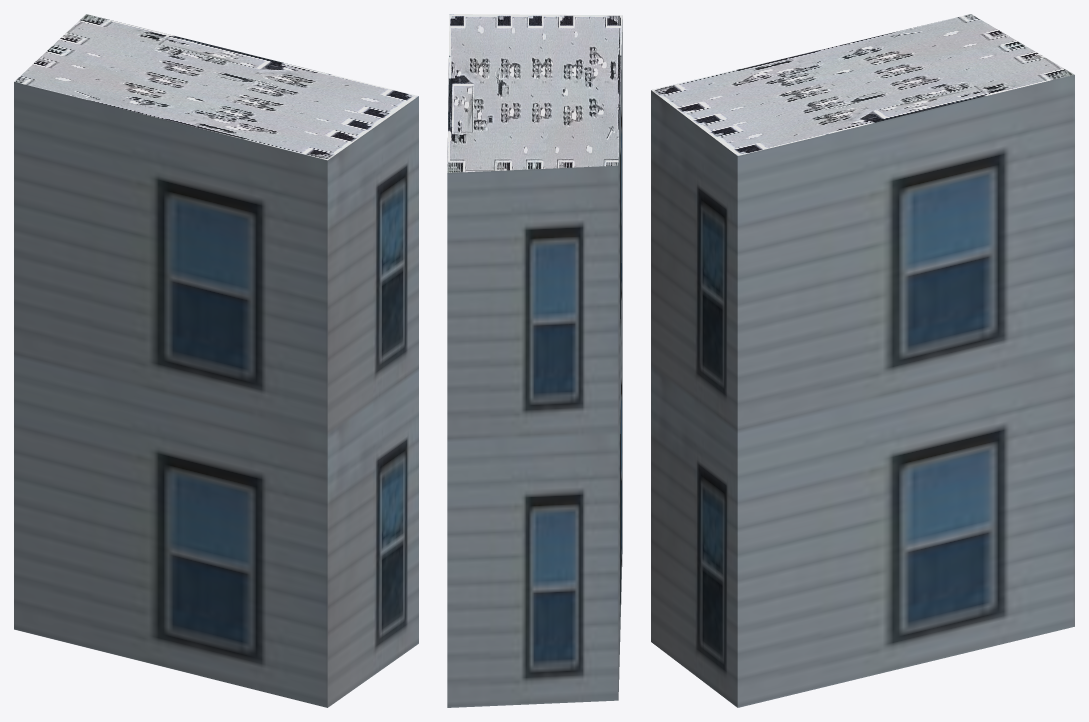
File: ResTex__2489.fbx
The picture shows the model from 3 angles, left to right: view 1: azimuth 30°, elevation 25°; view 2: azimuth 150°, elevation 25°; view 3: azimuth 270°, elevation 25°; orthographic projection. The views are drawn at different scales.
Visible parts, largest first — view 1: CityEngineMaterial_18_m, CityEngineMaterial_2_m; view 2: CityEngineMaterial_18_m, CityEngineMaterial_2_m; view 3: CityEngineMaterial_18_m, CityEngineMaterial_2_m.
Boxes of the visible parts, bbox=[...] form: CityEngineMaterial_18_m: bbox=[14, 82, 418, 707]; CityEngineMaterial_2_m: bbox=[14, 14, 418, 160]; CityEngineMaterial_18_m: bbox=[447, 19, 622, 707]; CityEngineMaterial_2_m: bbox=[447, 14, 622, 172]; CityEngineMaterial_18_m: bbox=[651, 75, 1074, 707]; CityEngineMaterial_2_m: bbox=[651, 14, 1074, 155].
Bounding box in the file's own units: 3.31 × 6 × 4.18.
Materials: 2 (2 with a texture image).
